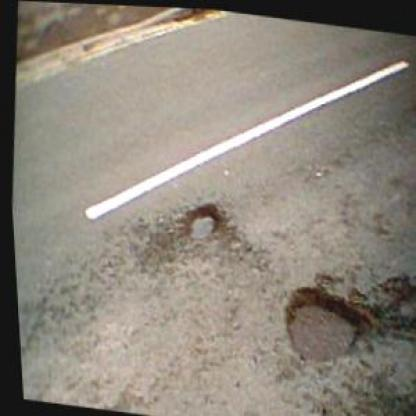pothole: (273, 274, 361, 369), (176, 193, 221, 245)
